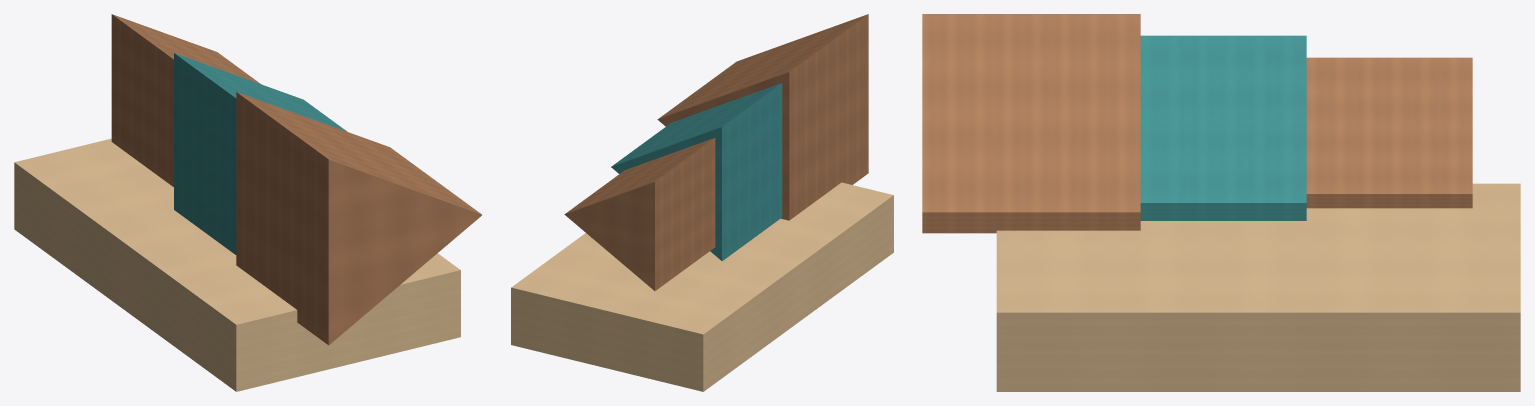
Rendered from atlas100-s092-a05.lod2.glb.
3 views of the same model, side by side, from view 1: azimuth 30°, elevation 25°; view 2: azimuth 150°, elevation 25°; view 3: azimuth 270°, elevation 25° (orthographic). The views are drawn at different scales.
Visible parts, largest first — view 1: atlas100-s092-a05:part-004, atlas100-s092-a05:part-002, atlas100-s092-a05:part-001, atlas100-s092-a05:part-000; view 2: atlas100-s092-a05:part-004, atlas100-s092-a05:part-002, atlas100-s092-a05:part-000, atlas100-s092-a05:part-001; view 3: atlas100-s092-a05:part-004, atlas100-s092-a05:part-002, atlas100-s092-a05:part-001, atlas100-s092-a05:part-000.
Part boxes in pixels (x1,y1,x2,y2): atlas100-s092-a05:part-004: (14,138,460,391); atlas100-s092-a05:part-002: (236,92,481,345); atlas100-s092-a05:part-001: (174,53,347,254); atlas100-s092-a05:part-000: (111,14,260,186); atlas100-s092-a05:part-004: (511,182,893,391); atlas100-s092-a05:part-002: (657,14,868,220); atlas100-s092-a05:part-000: (564,138,715,290); atlas100-s092-a05:part-001: (611,83,782,260); atlas100-s092-a05:part-004: (996,183,1520,391); atlas100-s092-a05:part-002: (922,14,1140,233); atlas100-s092-a05:part-001: (1140,35,1306,220); atlas100-s092-a05:part-000: (1306,57,1472,208).
Bounding box in the file's own units: 0.3822 × 0.3916 × 0.748.
Materials: 3 (3 with a texture image).
